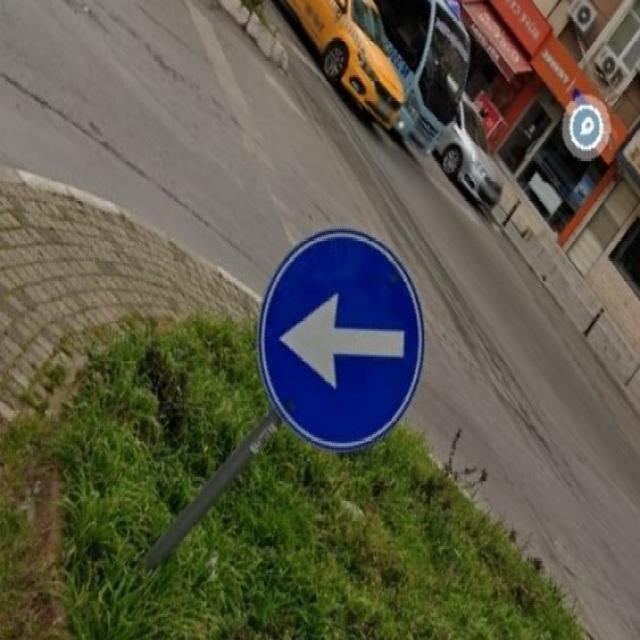Turn Left: (263, 236, 428, 451)
